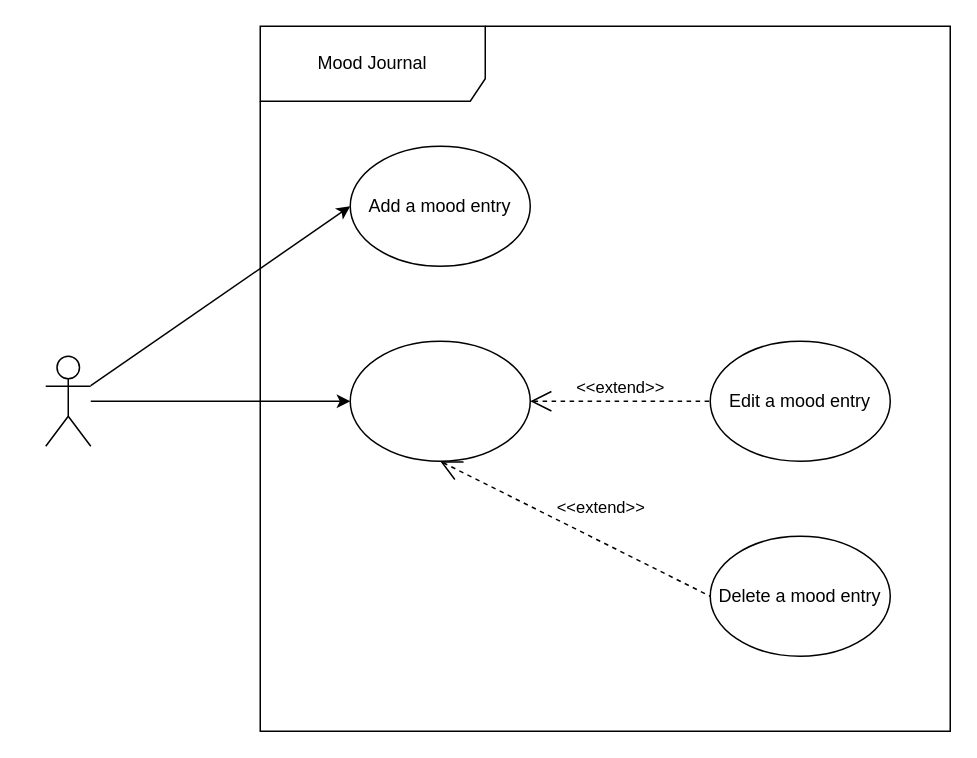
Image size: 977x758. Some labels were removed from this diagram. The centre of each missing label's shape, as x and y in pixels:
Participant: the point at 67,400
View a mood entry: the point at 439,400
